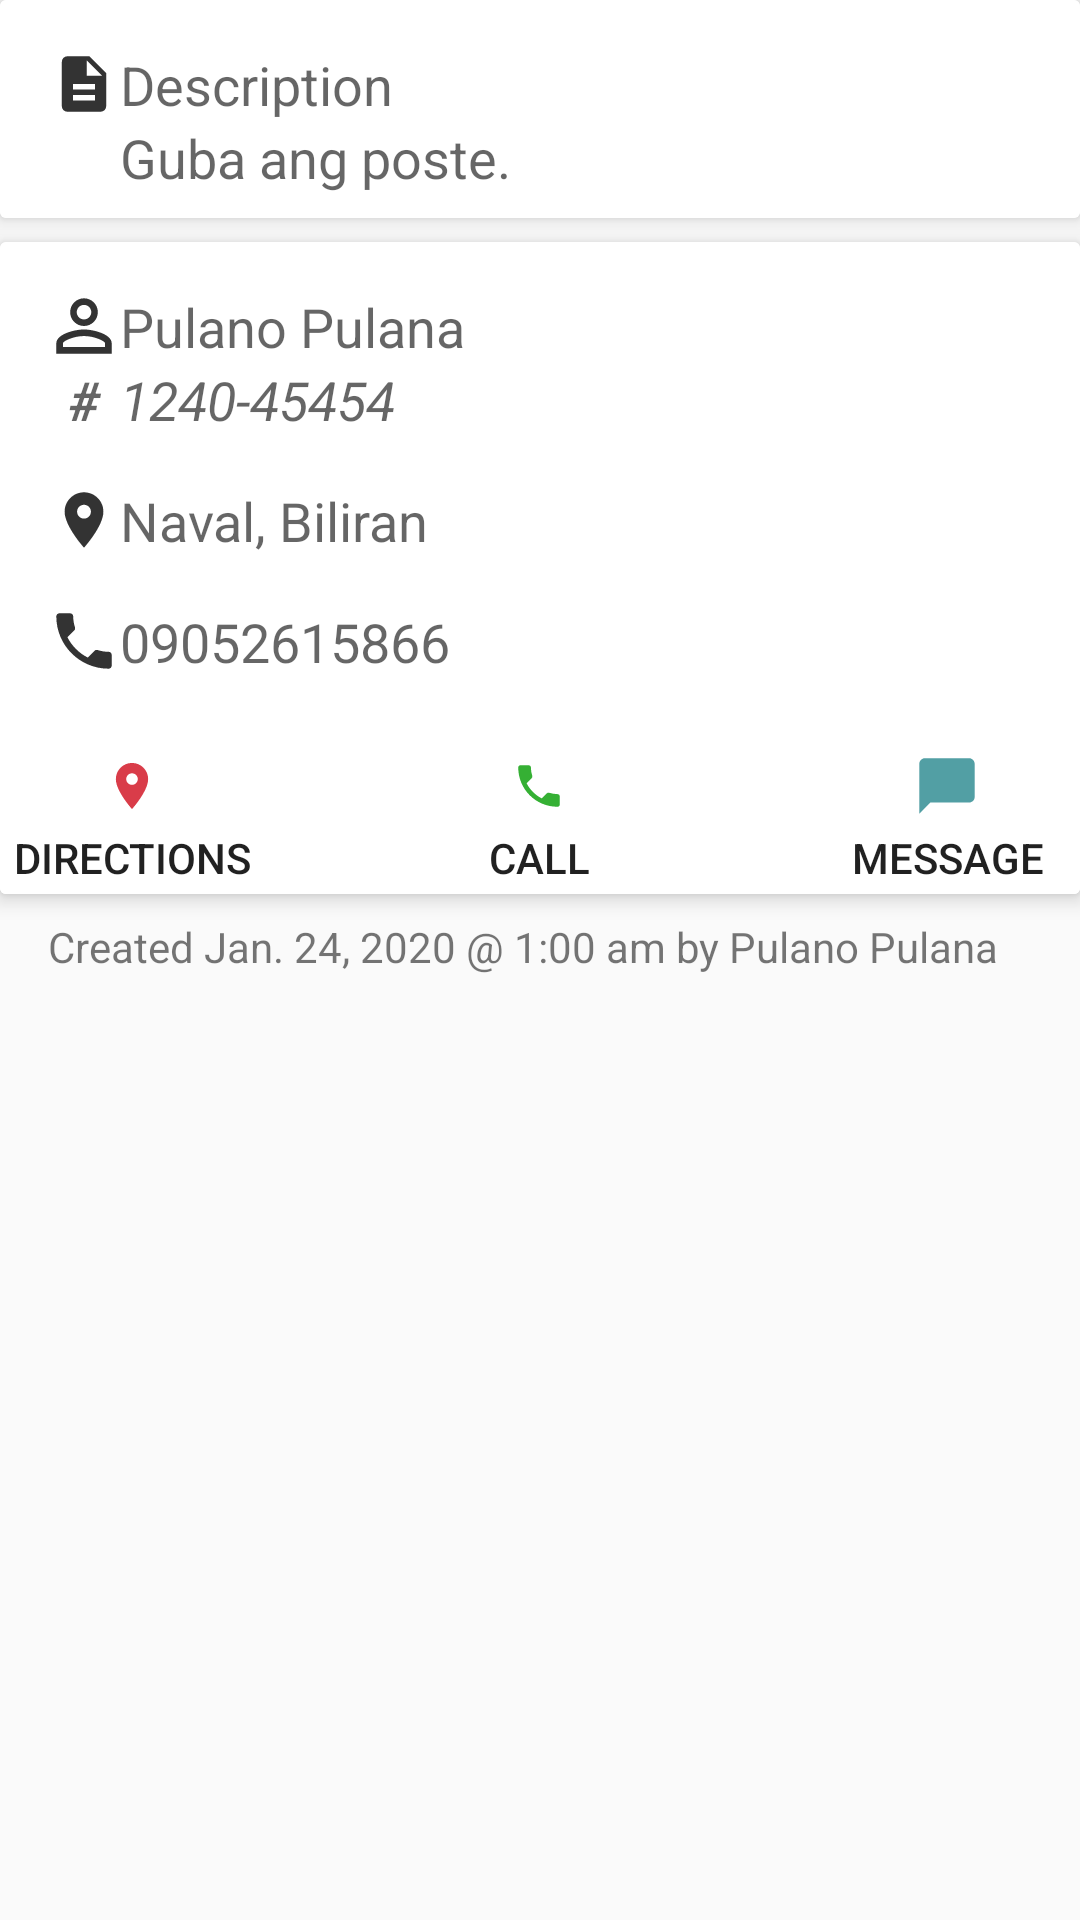

Where to tap for icons on this 1080 x 1920 app screen, as (x=x, y=y):
person: (x=84, y=326)
